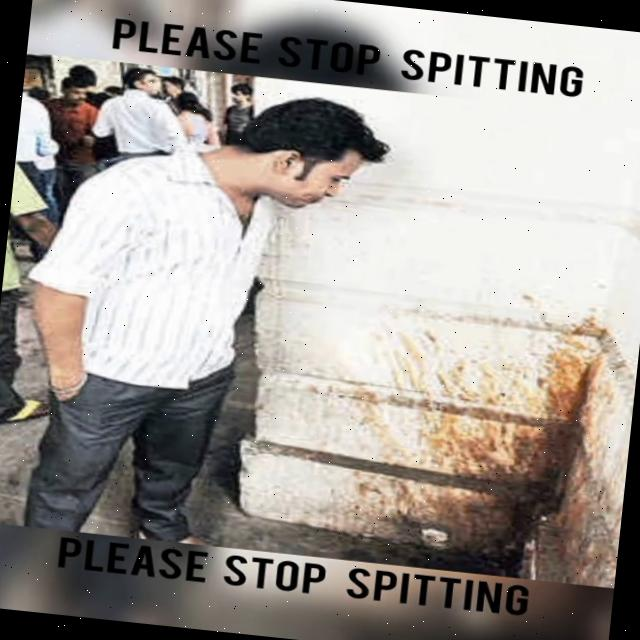spit: (307, 169, 616, 568)
